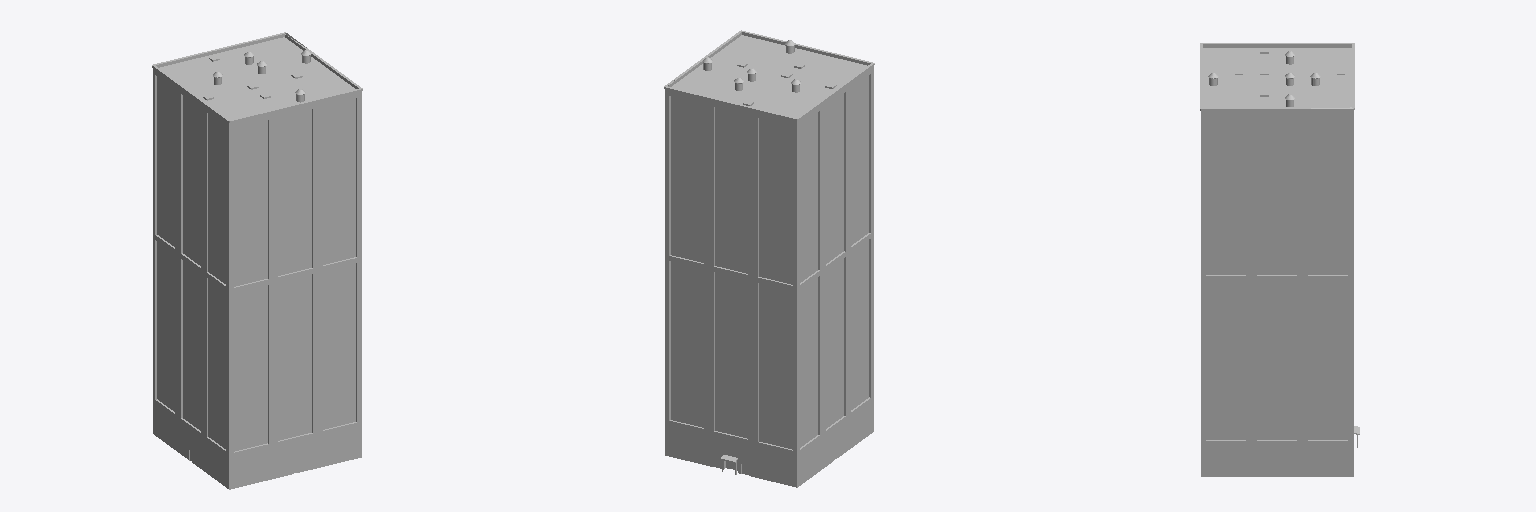
File: skyscraper_d_supersized.obj
The picture shows the model from 3 angles: view 1: azimuth 30°, elevation 25°; view 2: azimuth 150°, elevation 25°; view 3: azimuth 270°, elevation 25°; orthographic projection.
Visible parts, largest first — view 1: skyscraperD.002, skyscraperD.003, skyscraperD.004, skyscraperD.016; view 2: skyscraperD.002, skyscraperD.003, skyscraperD.004, skyscraperD.016; view 3: skyscraperD.002, skyscraperD.003, skyscraperD.004, skyscraperD.016.
Part boxes in pixels (x1,y1,x2,y2): skyscraperD.002: (153,71,361,291); skyscraperD.003: (153,236,361,455); skyscraperD.004: (152,32,362,126); skyscraperD.016: (153,401,361,489); skyscraperD.002: (665,69,873,289); skyscraperD.003: (665,234,873,453); skyscraperD.004: (664,30,874,124); skyscraperD.016: (665,399,873,487); skyscraperD.002: (1201,108,1353,278); skyscraperD.003: (1201,279,1353,443); skyscraperD.004: (1200,43,1354,113); skyscraperD.016: (1201,426,1359,476).
Bounding box in the file's own units: 7.28 × 19.54 × 7.54.